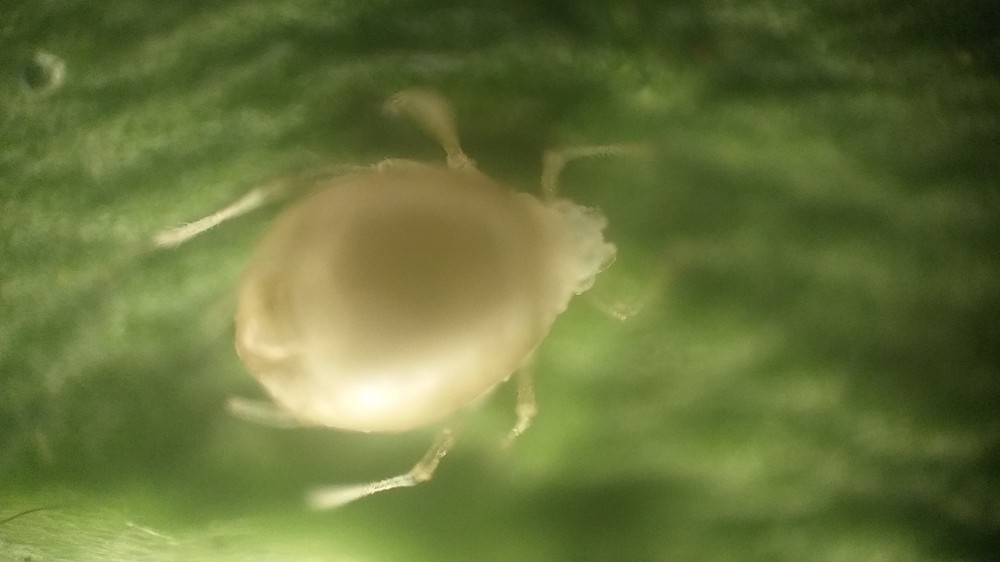Pulgon: (145, 76, 711, 535)
